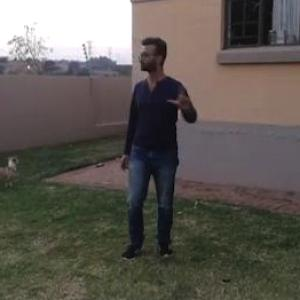land_hand: (165, 79, 193, 116)
